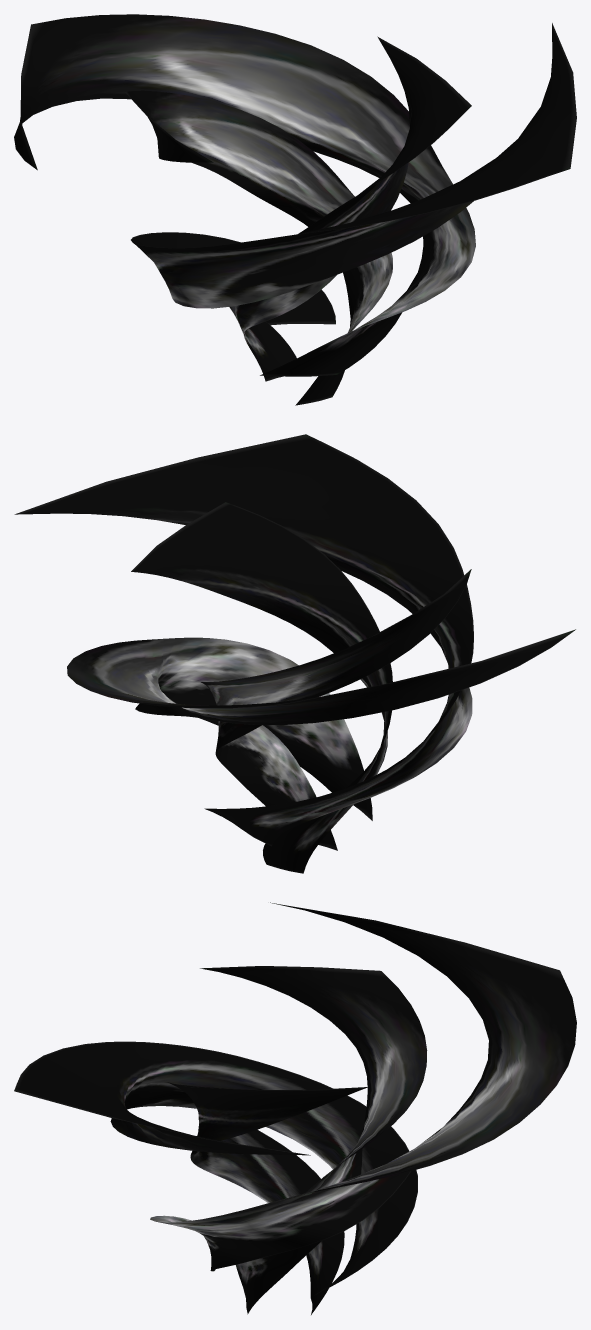
Rendered from Effect_1161_1bigskill_S #063319.fbx.
The picture shows the model from 3 angles, top to bottom: view 1: azimuth 30°, elevation 25°; view 2: azimuth 150°, elevation 25°; view 3: azimuth 270°, elevation 25°; orthographic projection. The views are drawn at different scales.
Visible parts, largest first — view 1: default Instance; view 2: default Instance; view 3: default Instance.
Boxes of the visible parts, bbox=[...] form: default Instance: bbox=[14, 14, 576, 405]; default Instance: bbox=[14, 434, 575, 873]; default Instance: bbox=[14, 902, 576, 1314].
Size of the model in its own units: 5.63 by 2.89 by 5.3.
Materials: 1 (1 with a texture image).
